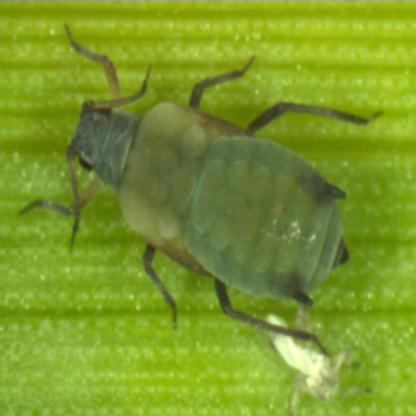schizaphis graminum: (28, 48, 367, 339)
